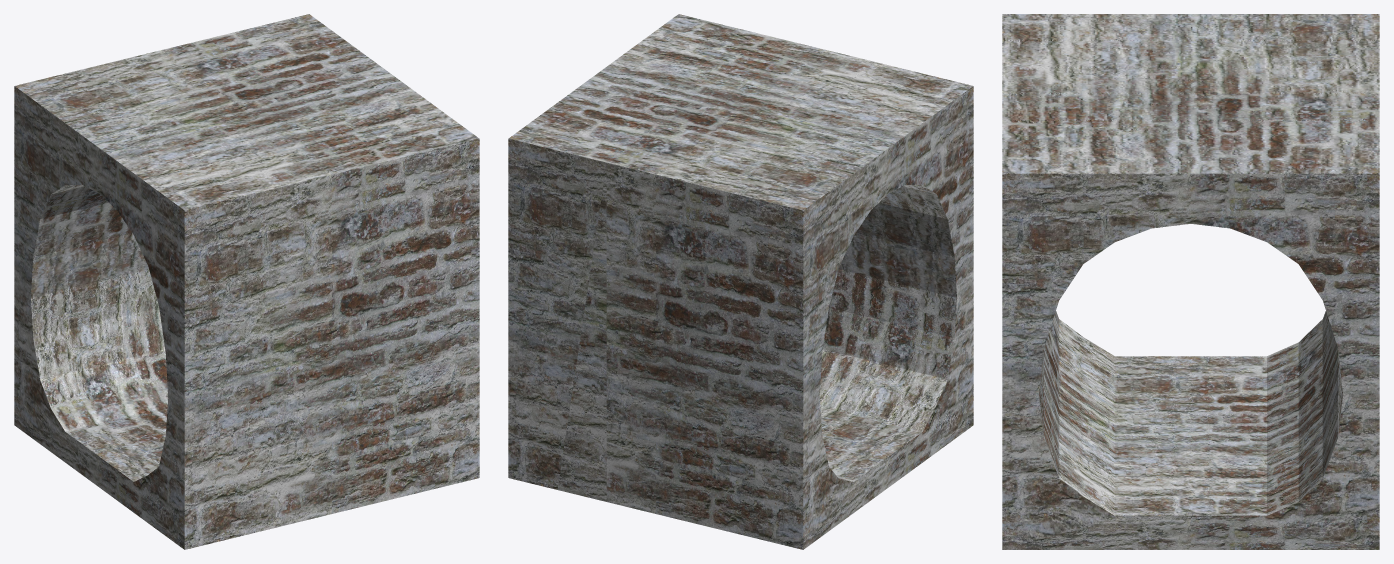
Rendered from Tunneltest.FBX.
3 renders of one model, left to right at view 1: azimuth 30°, elevation 25°; view 2: azimuth 150°, elevation 25°; view 3: azimuth 270°, elevation 25°, orthographic. The views are drawn at different scales.
Parts seen in each view (by area): view 1: Box001; view 2: Box001; view 3: Box001.
Part boxes in pixels (<box>): Box001: <box>14,14,479,549</box>; Box001: <box>508,14,973,549</box>; Box001: <box>1002,14,1379,549</box>.
Bounding box in the file's own units: 400 × 440 × 400.
